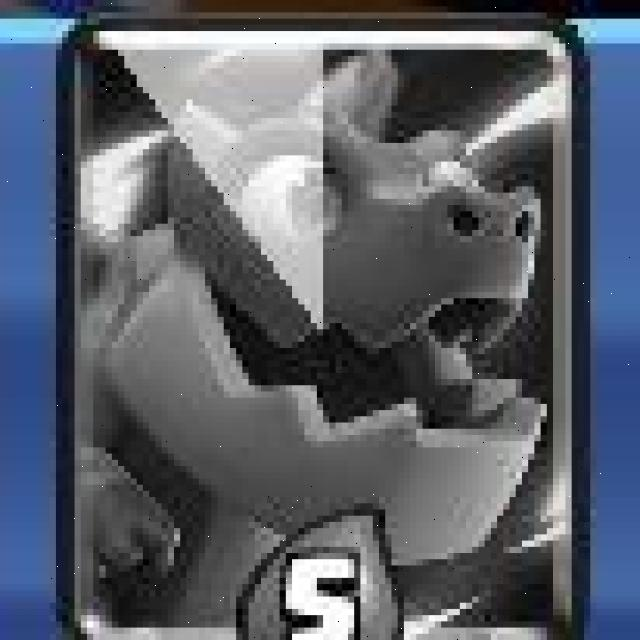Electro_Dragon: (58, 16, 588, 640)
